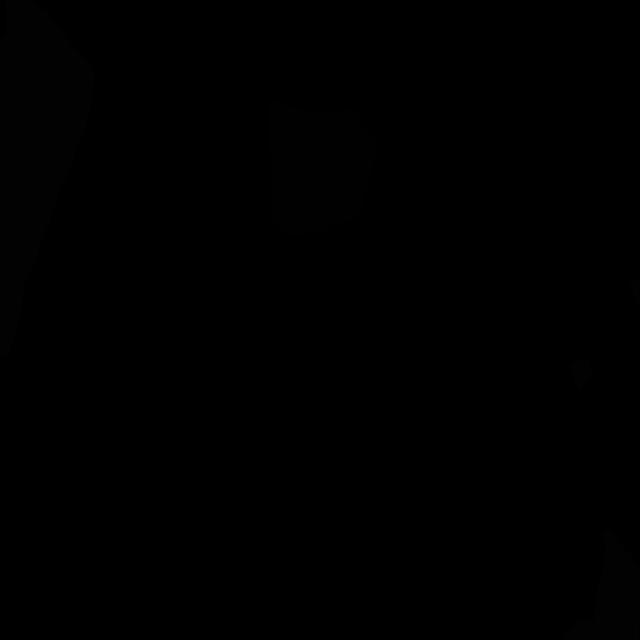cardboard: (0, 0, 94, 357), (560, 530, 640, 640), (570, 359, 592, 393), (630, 279, 640, 306)
rigid_plastic: (268, 97, 378, 237)
